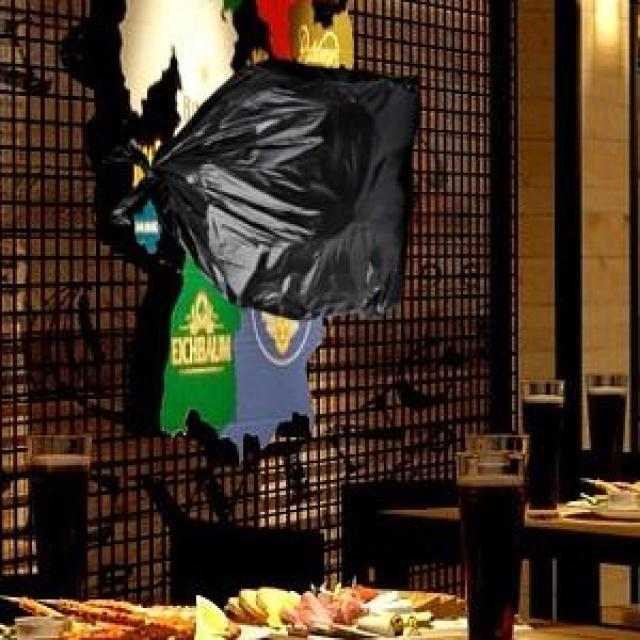Trashbag: (99, 53, 431, 324)
